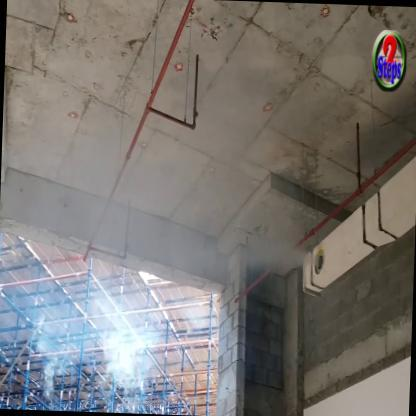smoke: (96, 286, 168, 395), (253, 215, 322, 275)
